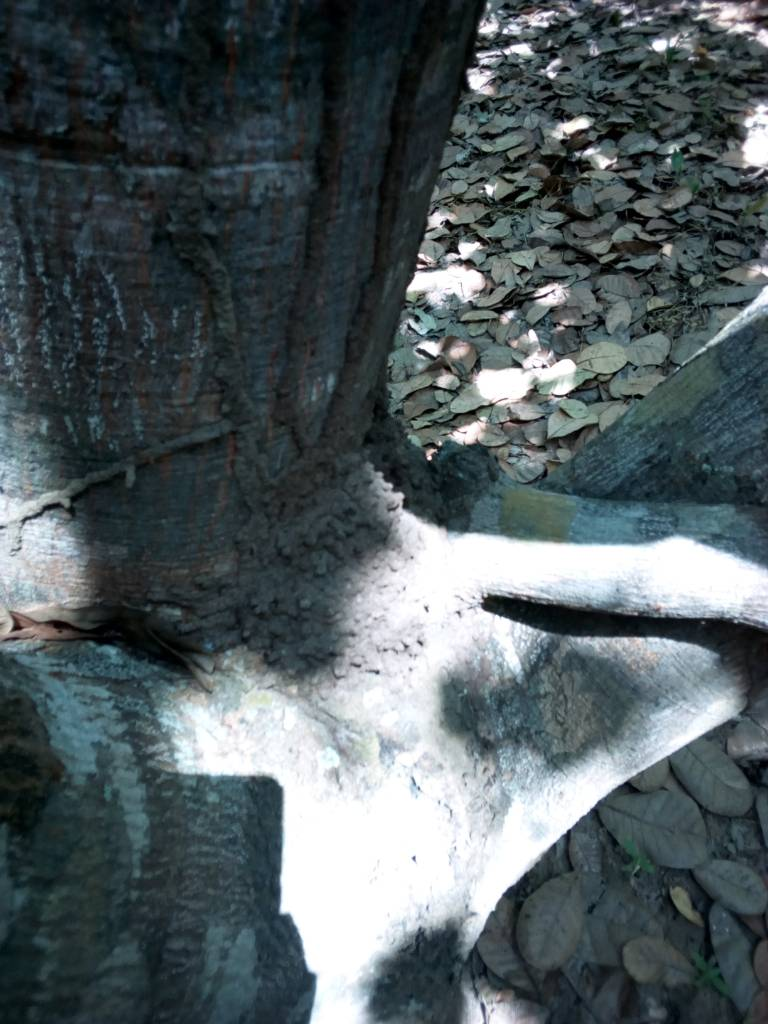Termites: (300, 22, 422, 438), (229, 452, 432, 674)
